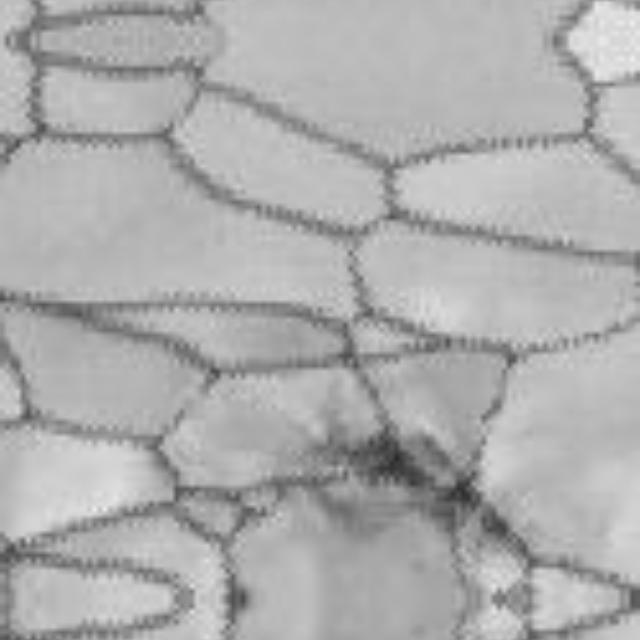good_void: (295, 412, 506, 536)
